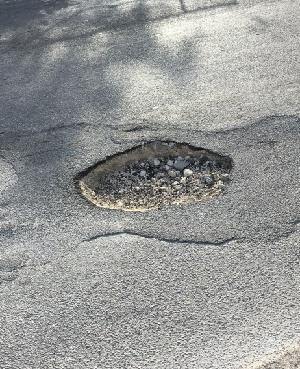pothole: (69, 135, 234, 211)
